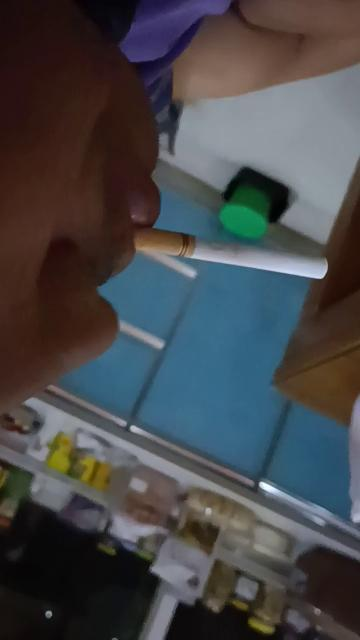Smoking: (134, 228, 329, 280)
